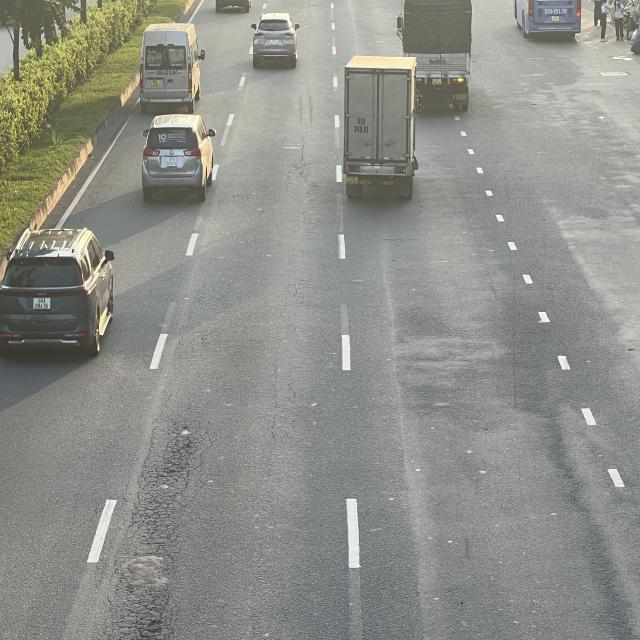car: (2, 226, 116, 359), (139, 114, 215, 200), (250, 13, 301, 66)
truck: (342, 59, 417, 201), (398, 2, 473, 114)
van: (139, 24, 206, 111)
